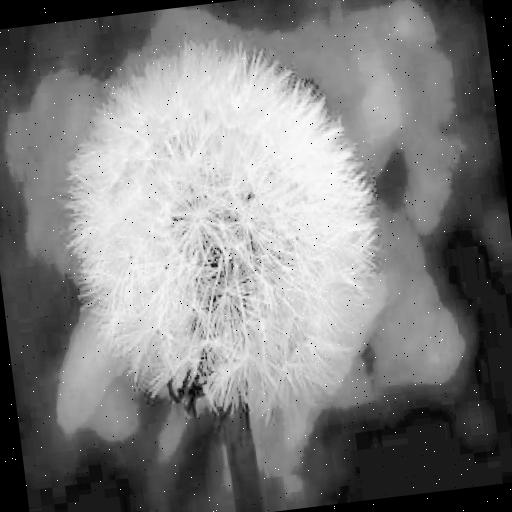dandelion: (59, 36, 393, 421)
